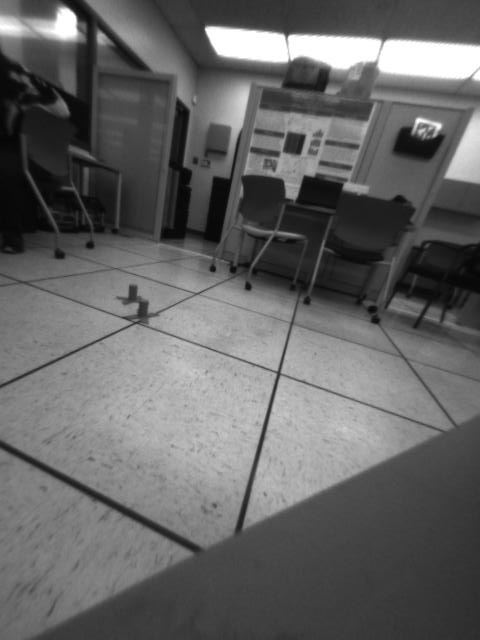X: (122, 300, 160, 328), (113, 284, 149, 307)
